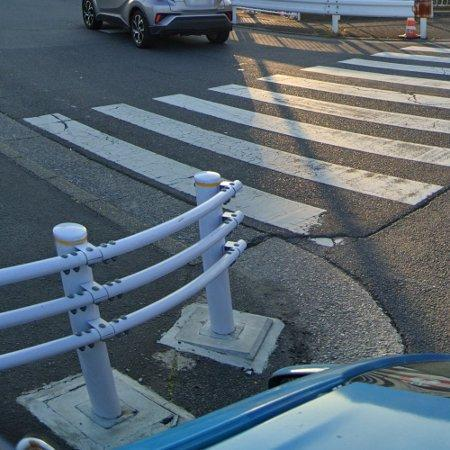crosswalks: (26, 54, 450, 244)
